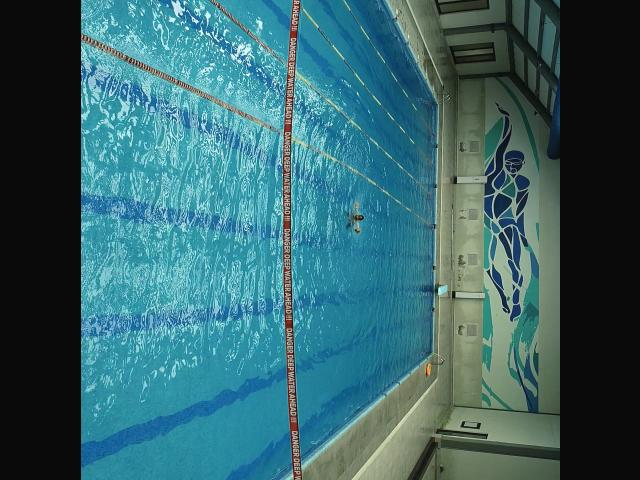swimming: (342, 202, 364, 234)
